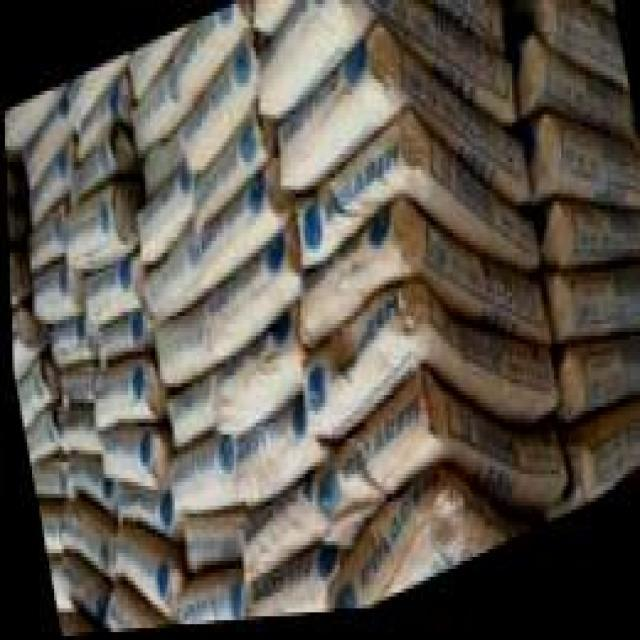gunny_bag: (274, 29, 523, 209), (305, 375, 558, 547), (295, 284, 544, 437), (294, 199, 542, 345), (289, 124, 535, 268), (247, 0, 512, 124), (324, 483, 537, 617), (199, 240, 292, 372), (187, 168, 280, 289), (184, 106, 268, 239), (174, 45, 250, 181), (205, 329, 288, 444), (529, 46, 627, 141), (162, 8, 242, 116), (229, 406, 307, 512), (544, 126, 640, 210), (233, 483, 306, 592), (543, 0, 625, 85), (555, 194, 640, 275), (563, 339, 640, 426), (561, 274, 640, 349), (239, 550, 317, 623), (61, 172, 118, 271), (130, 166, 183, 263), (160, 438, 225, 517), (112, 523, 168, 614), (583, 414, 640, 497), (84, 356, 145, 432), (148, 310, 205, 387), (126, 75, 178, 159), (78, 252, 133, 330), (69, 80, 118, 167), (24, 148, 69, 224), (3, 90, 56, 152), (60, 503, 103, 578), (28, 264, 75, 327), (429, 0, 493, 46), (90, 314, 139, 373), (95, 440, 148, 490), (176, 584, 236, 628), (102, 586, 155, 634), (21, 409, 58, 471), (25, 452, 62, 502), (9, 310, 30, 361)
